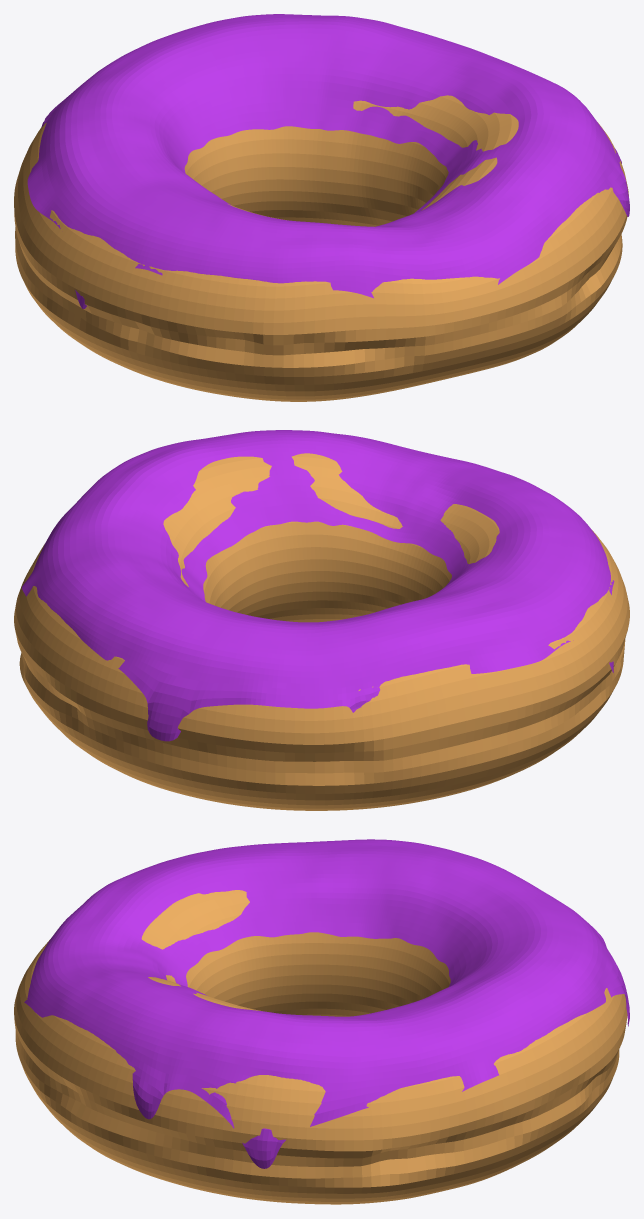
File: ddonut.glb
The picture shows the model from 3 angles, top to bottom: view 1: azimuth 30°, elevation 25°; view 2: azimuth 150°, elevation 25°; view 3: azimuth 270°, elevation 25°; orthographic projection. The views are drawn at different scales.
Visible parts, largest first — view 1: Torus.002, Torus.001; view 2: Torus.002, Torus.001; view 3: Torus.002, Torus.001.
Boxes of the visible parts, box(x1,y1,x2,y2) form: Torus.002: box(27, 14, 629, 308); Torus.001: box(14, 95, 628, 401); Torus.002: box(22, 430, 614, 741); Torus.001: box(14, 453, 629, 810); Torus.002: box(24, 839, 629, 1168); Torus.001: box(14, 890, 627, 1204).
Size of what is drawn, in the model's own units: 0.2537 by 0.0858 by 0.2579.
